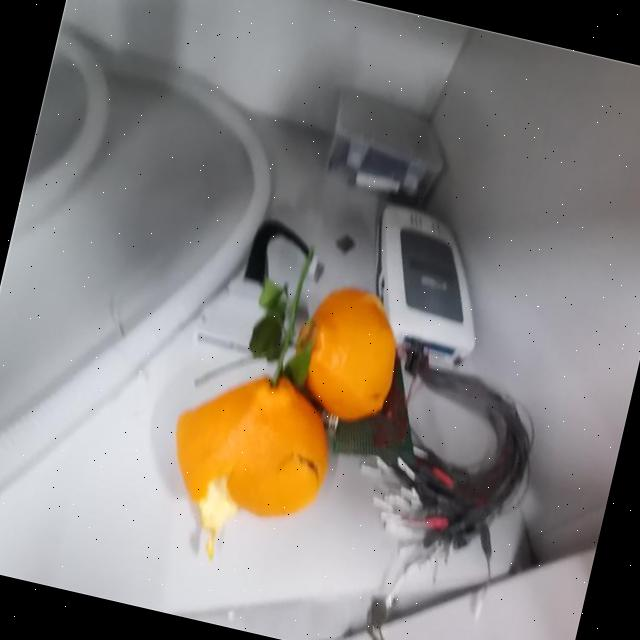orange-peel: (146, 352, 348, 578)
